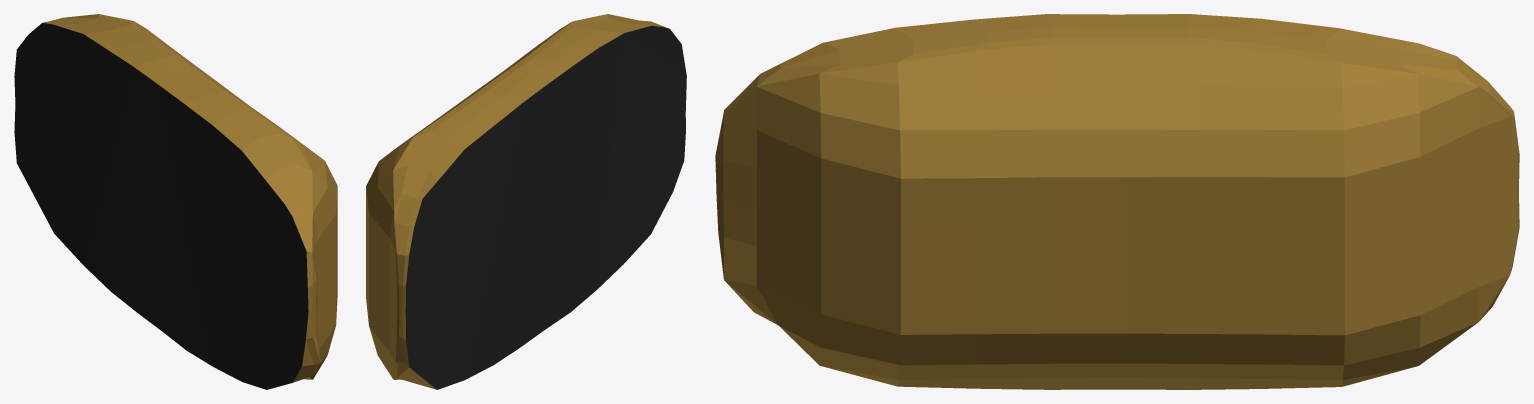
File: LightOnWall.fbx
The picture shows the model from 3 angles, left to right: view 1: azimuth 30°, elevation 25°; view 2: azimuth 150°, elevation 25°; view 3: azimuth 270°, elevation 25°; orthographic projection. The views are drawn at different scales.
Parts seen in each view (by area): view 1: Цилиндр; view 2: Цилиндр; view 3: Цилиндр.
Boxes of the visible parts, x1,y1,x2,y2 form: Цилиндр: (14, 14, 337, 389); Цилиндр: (366, 14, 686, 389); Цилиндр: (715, 14, 1519, 389).
Bounding box in the file's own units: 98.21 × 229 × 477.
